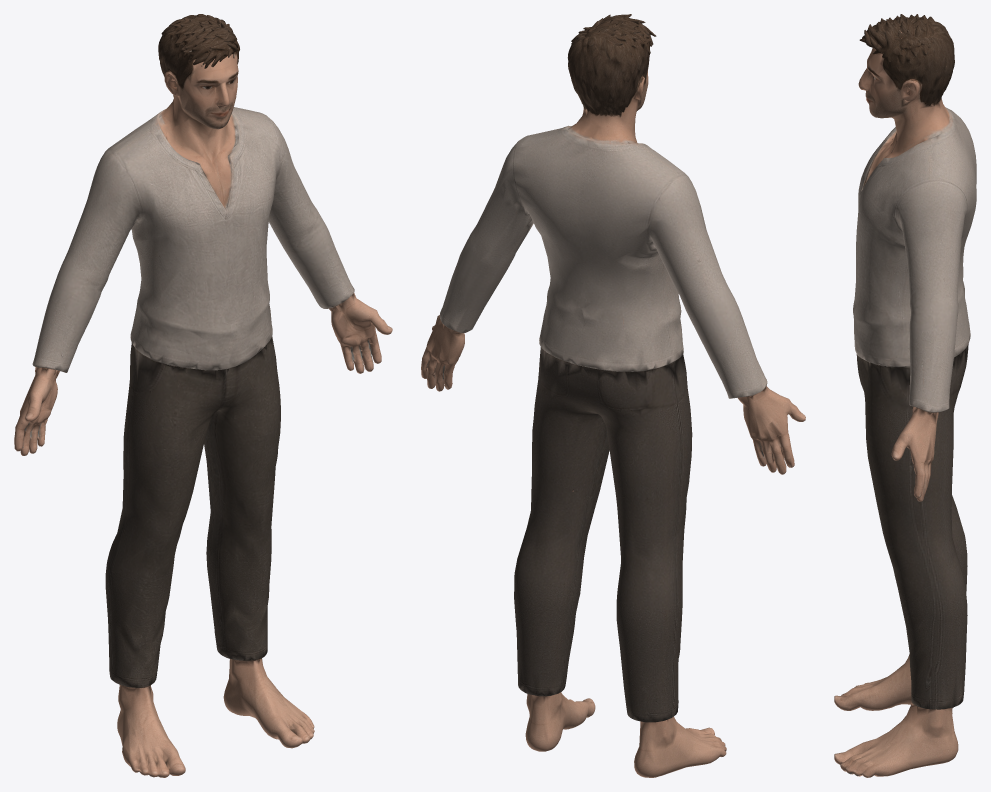
The model's file is hero-neutral-input.glb.
3 views of the same model, side by side, from view 1: azimuth 30°, elevation 25°; view 2: azimuth 150°, elevation 25°; view 3: azimuth 270°, elevation 25° (orthographic).
Bounding box in the file's own units: 1.02 × 1.9 × 0.3423.
1 material, 1 textured.
